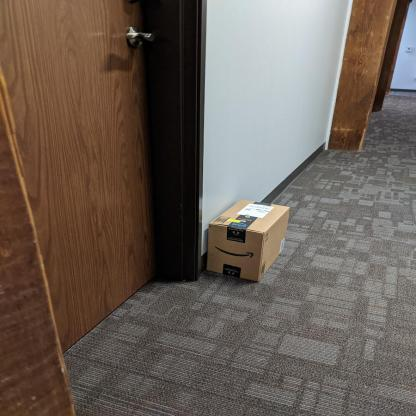package: (204, 197, 295, 283)
